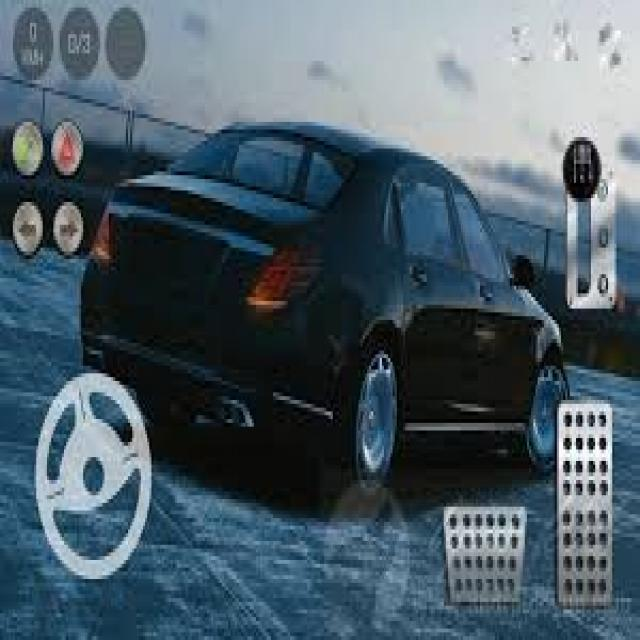Car: (73, 145, 575, 475)
